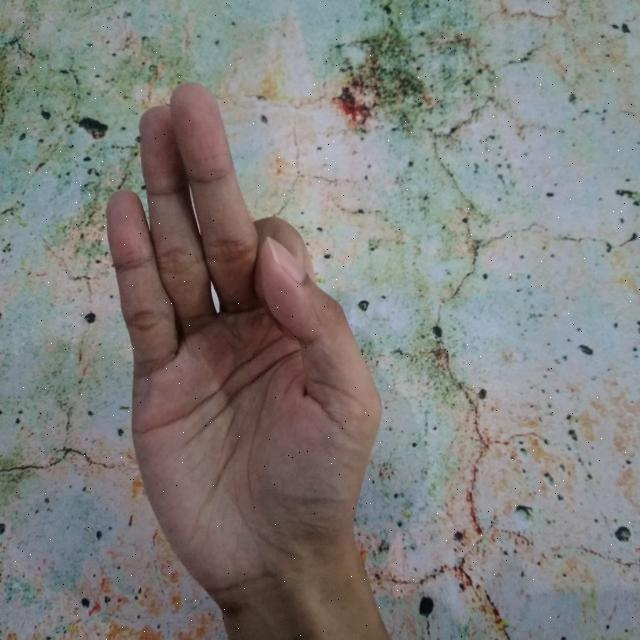F: (103, 81, 390, 640)
